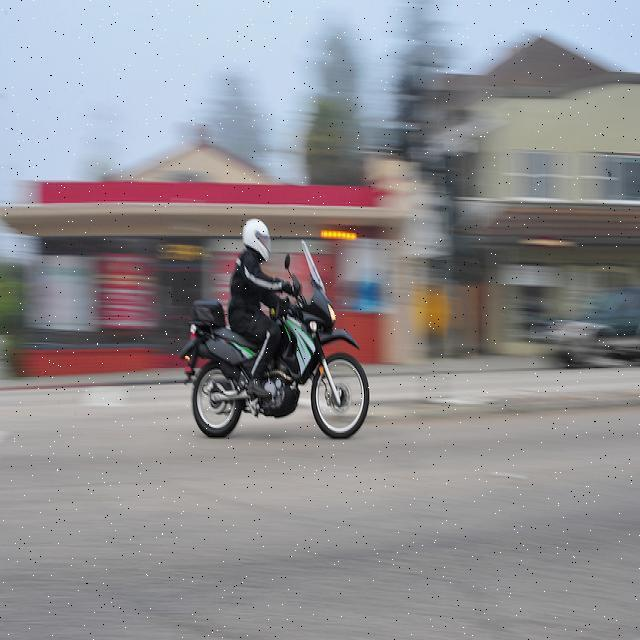motorcycle: (185, 288, 373, 440)
